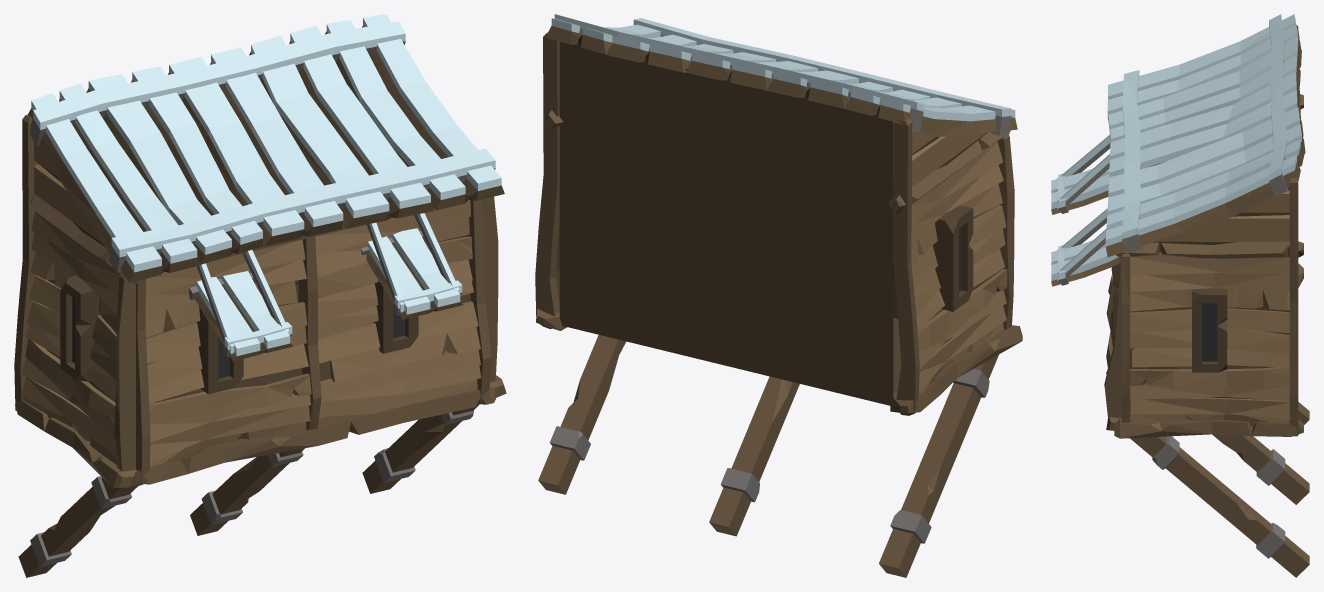
The model's file is SM_Bld_Castle_Wood_Battlement_03_Snow.gltf.
3 renders of one model, left to right at view 1: azimuth 30°, elevation 25°; view 2: azimuth 150°, elevation 25°; view 3: azimuth 270°, elevation 25°, orthographic. The views are drawn at different scales.
Parts seen in each view (by area): view 1: SM_Bld_Castle_Wood_Battlement_03_Snow; view 2: SM_Bld_Castle_Wood_Battlement_03_Snow; view 3: SM_Bld_Castle_Wood_Battlement_03_Snow.
Boxes of the visible parts, left/top/right/bottom form: SM_Bld_Castle_Wood_Battlement_03_Snow: left=14, top=14, right=506, bottom=577; SM_Bld_Castle_Wood_Battlement_03_Snow: left=535, top=14, right=1022, bottom=577; SM_Bld_Castle_Wood_Battlement_03_Snow: left=1051, top=14, right=1309, bottom=577.
Bounding box in the file's own units: 3.15 × 3.68 × 2.08.
Materials: 1 (1 with a texture image).
